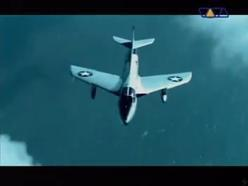aircraft: (68, 25, 192, 126)
